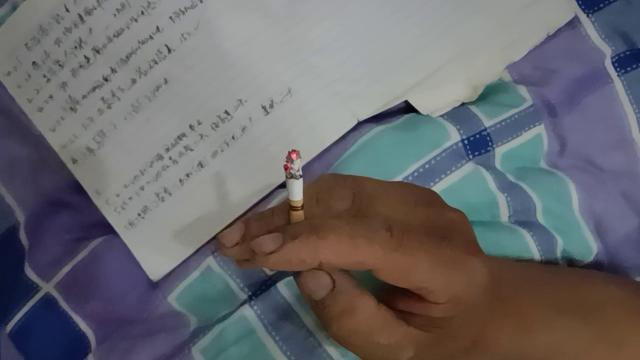Smoking: (284, 148, 306, 232)
